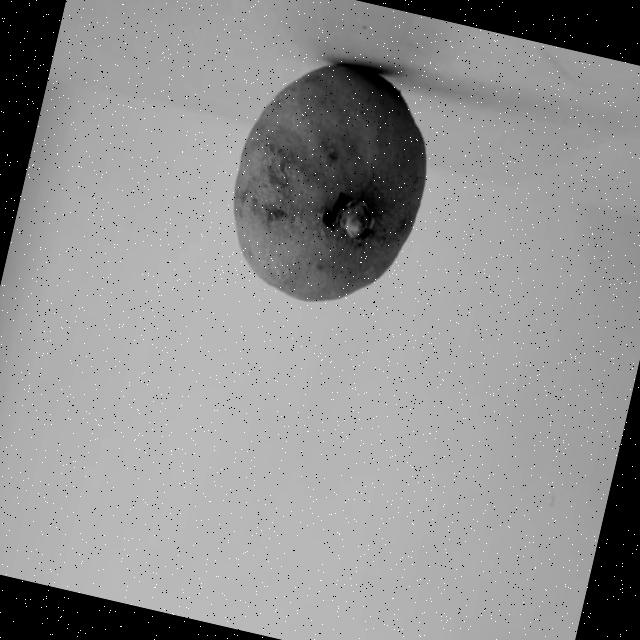overripe: (206, 36, 455, 330)
